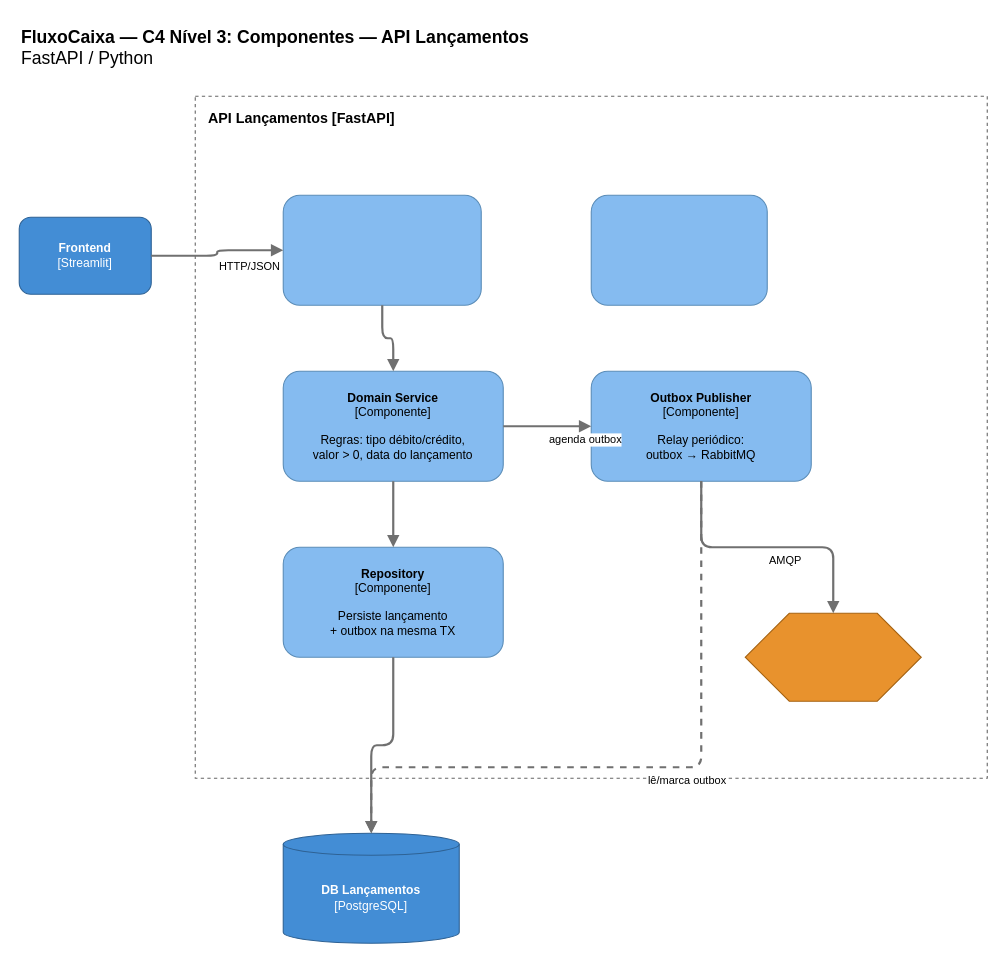
The diagram is 1007 pixels wide and 963 high, and some of its shapes have lost their labels. The shapes that lost their labels are listed below. From the top down, each one's box as (x1, y1, x2, y2) in pixels, then its label:
(282, 194, 481, 305): API Routes [Componente] Endpoints REST validação Pydantic
(590, 194, 767, 305): Health / Metrics [Componente] /health, logs
(744, 612, 921, 701): RabbitMQ [Broker]
